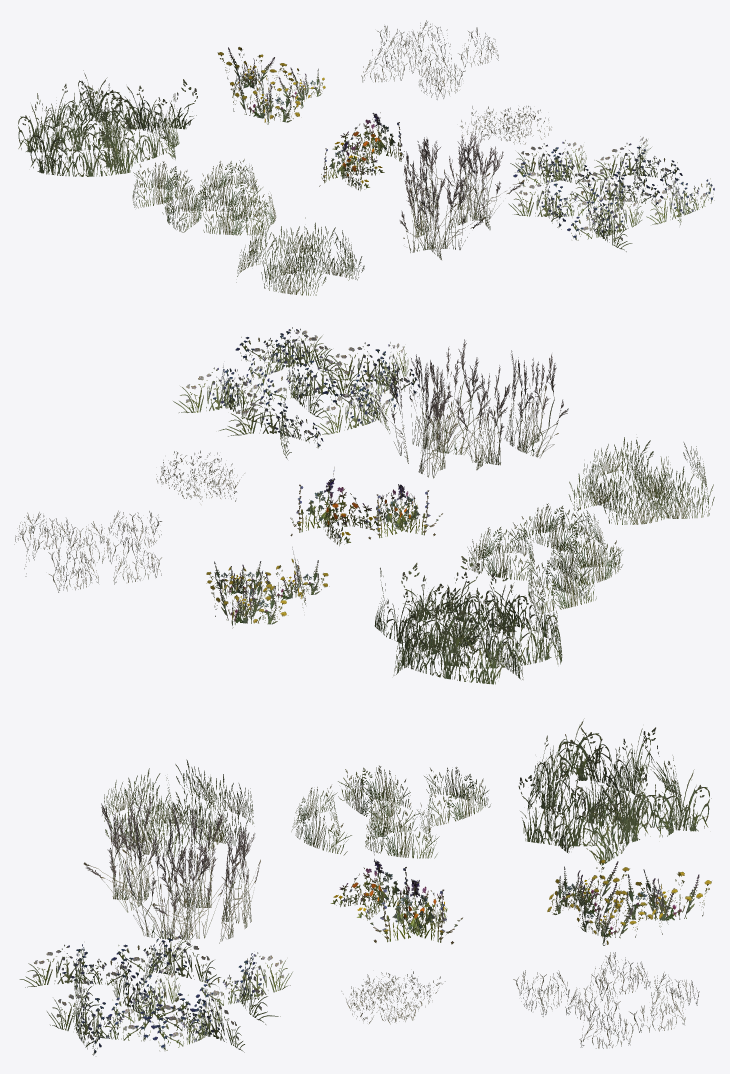
Rendered from grass.glb.
3 views of the same model, one above another, from view 1: azimuth 30°, elevation 25°; view 2: azimuth 150°, elevation 25°; view 3: azimuth 270°, elevation 25° (orthographic). The views are drawn at different scales.
Visible parts, largest first — view 1: Grass_Reeds_LOD0_GrassBase_0, Grass_Reeds_LOD0_Grass_Reeds_0; view 2: Grass_Reeds_LOD0_GrassBase_0, Grass_Reeds_LOD0_Grass_Reeds_0; view 3: Grass_Reeds_LOD0_GrassBase_0, Grass_Reeds_LOD0_Grass_Reeds_0.
Boxes of the visible parts, <box> form: Grass_Reeds_LOD0_GrassBase_0: <box>18,20,714,295</box>; Grass_Reeds_LOD0_Grass_Reeds_0: <box>399,131,524,259</box>; Grass_Reeds_LOD0_GrassBase_0: <box>14,327,714,684</box>; Grass_Reeds_LOD0_Grass_Reeds_0: <box>376,339,568,478</box>; Grass_Reeds_LOD0_GrassBase_0: <box>19,718,711,1055</box>; Grass_Reeds_LOD0_Grass_Reeds_0: <box>83,785,260,943</box>.
Size of the model in its own units: 12.73 by 2.16 by 13.
2 materials, 2 textured.
